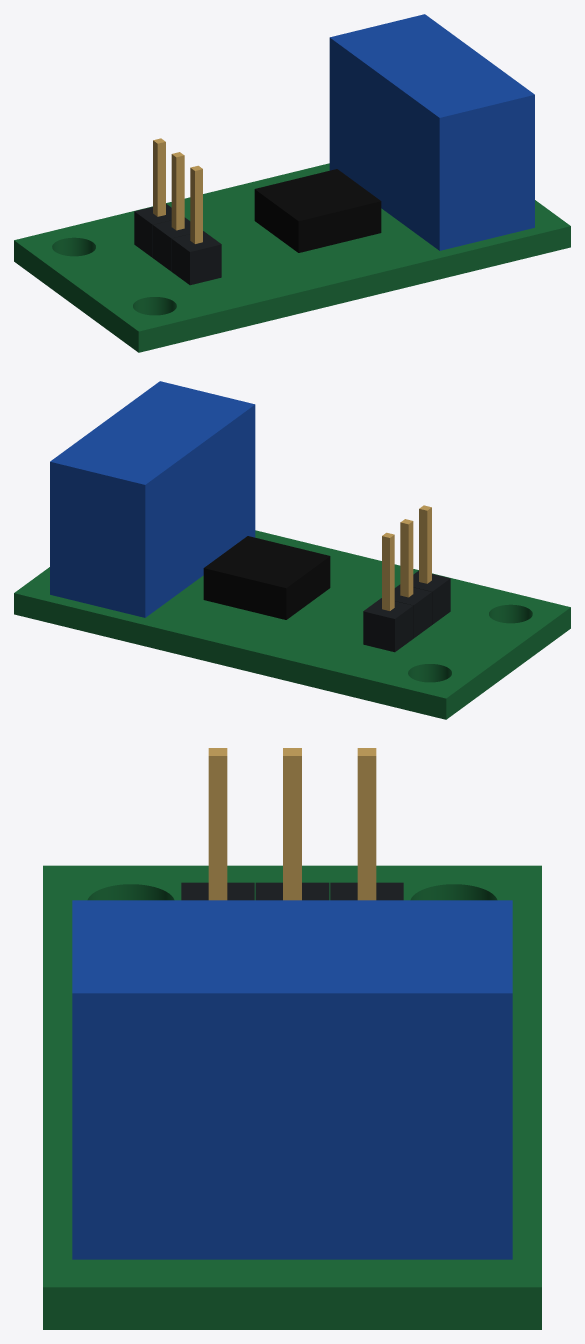
Rendered from mosfet_logico.glb.
The picture shows the model from 3 angles, top to bottom: view 1: azimuth 30°, elevation 25°; view 2: azimuth 150°, elevation 25°; view 3: azimuth 270°, elevation 25°; orthographic projection. The views are drawn at different scales.
Parts seen in each view (by area): view 1: mosfet_logico; view 2: mosfet_logico; view 3: mosfet_logico.
Part boxes in pixels (x1,y1,x2,y2): mosfet_logico: (14, 14, 570, 352); mosfet_logico: (14, 381, 570, 719); mosfet_logico: (43, 748, 541, 1329).
Size of the model in its own units: 34 by 11.6 by 17.
